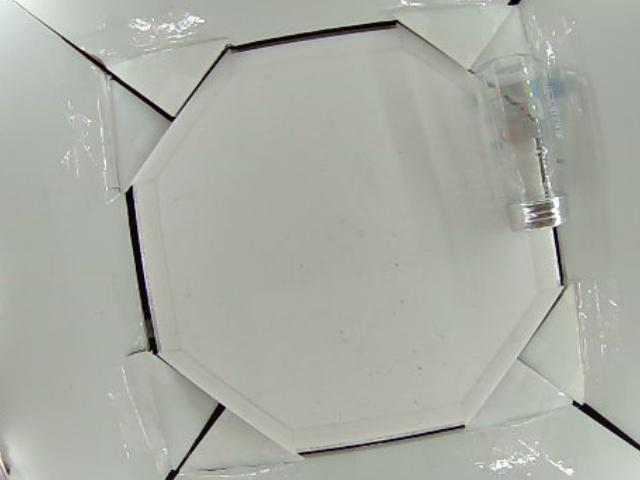Bottle: (472, 54, 566, 234)
